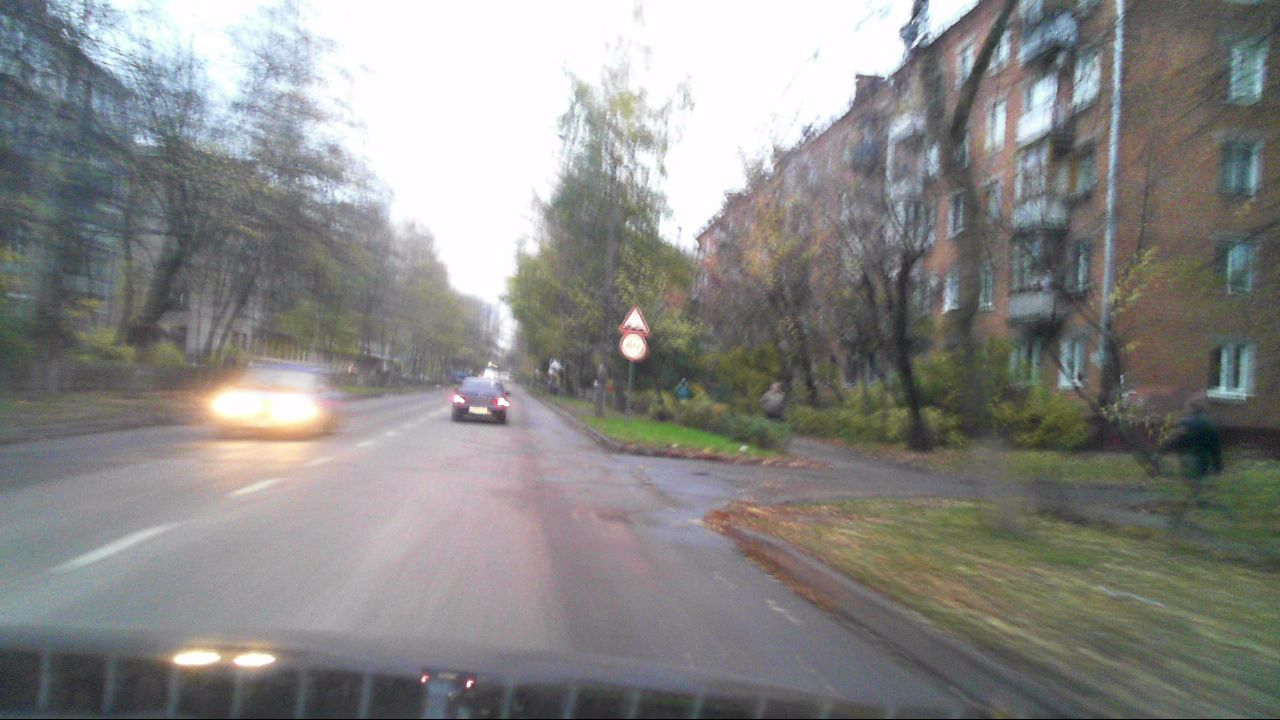speed_warning_40: (620, 334, 646, 360)
